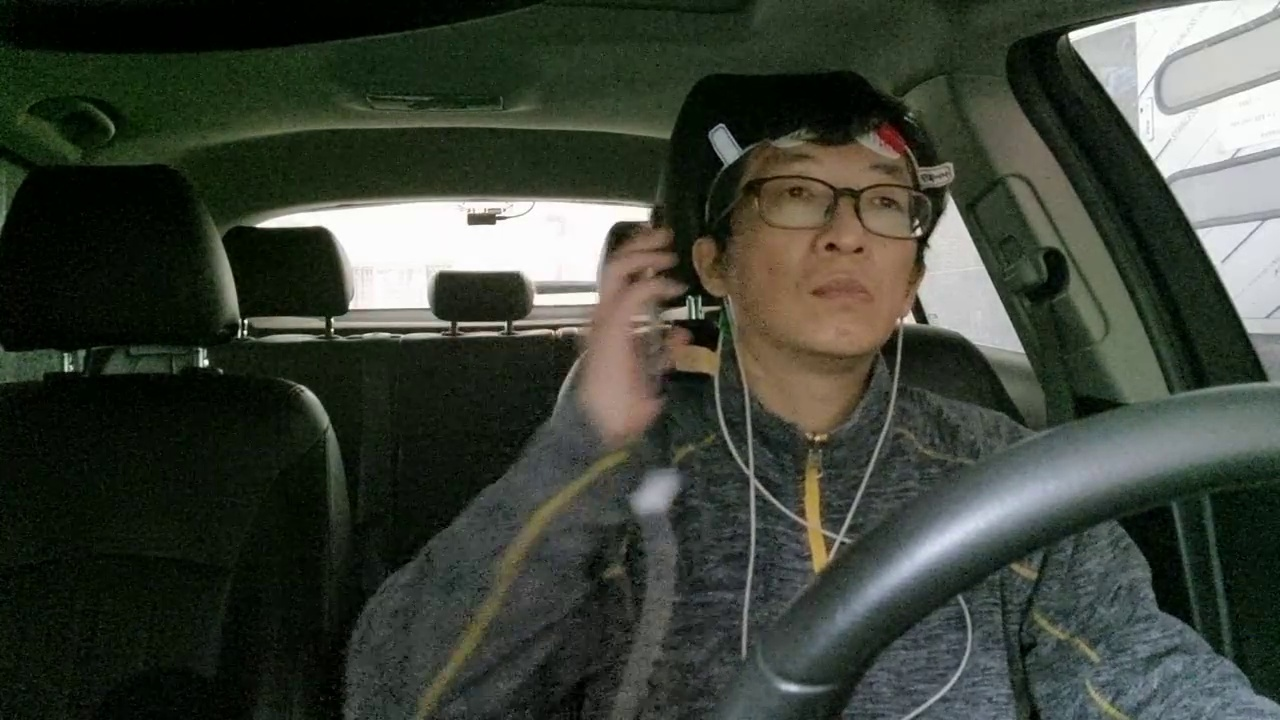phone: (560, 208, 732, 408)
